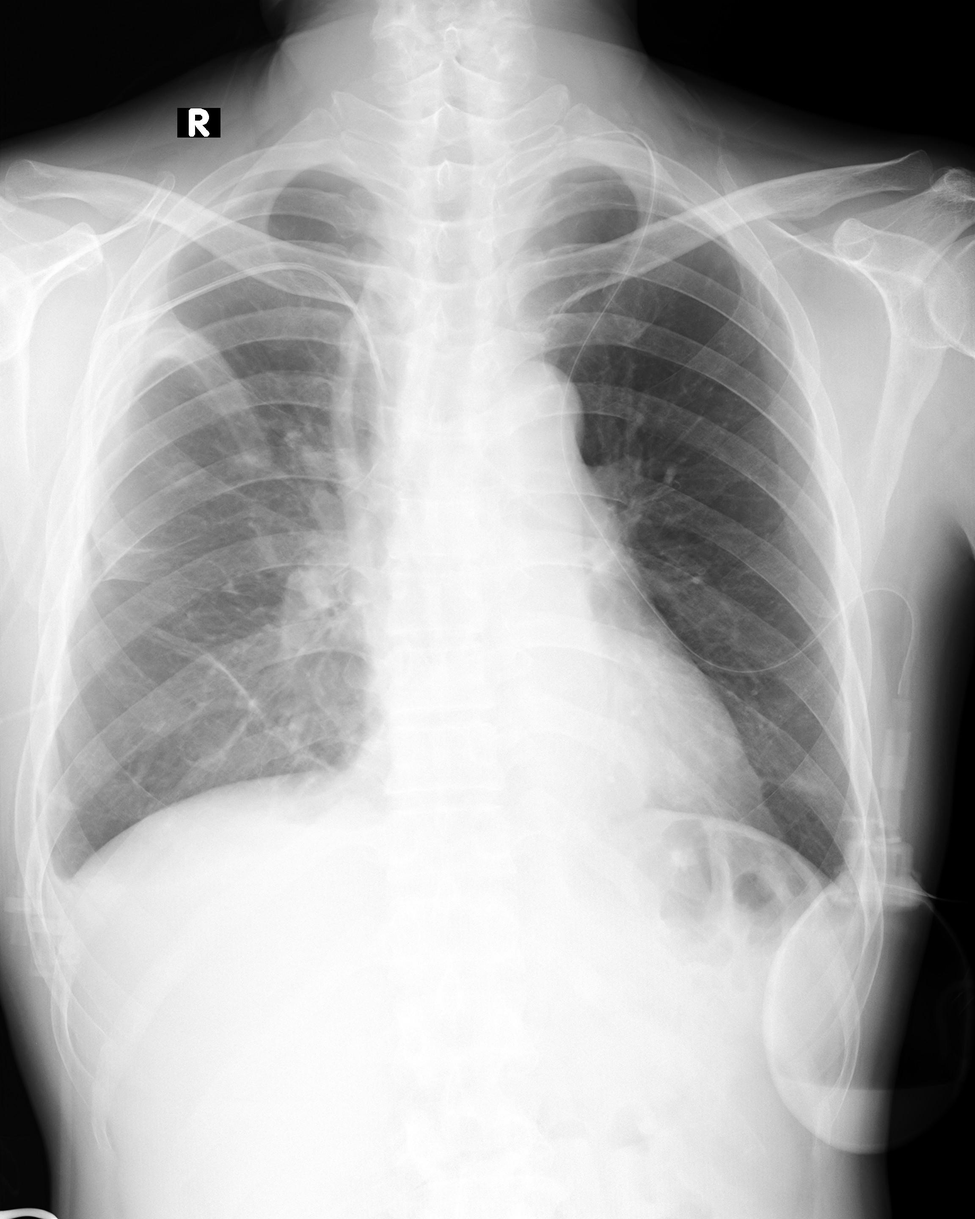Aortic enlargement: (470, 358, 578, 469)
Pleural thickening: (814, 815, 877, 927), (33, 852, 78, 907)
Pulmonary fibrosis: (138, 618, 318, 767), (775, 766, 826, 794)
